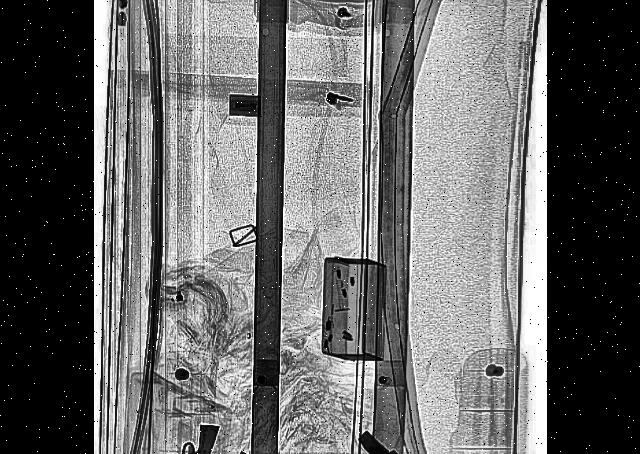Gun: (136, 409, 226, 454), (346, 416, 433, 454)
